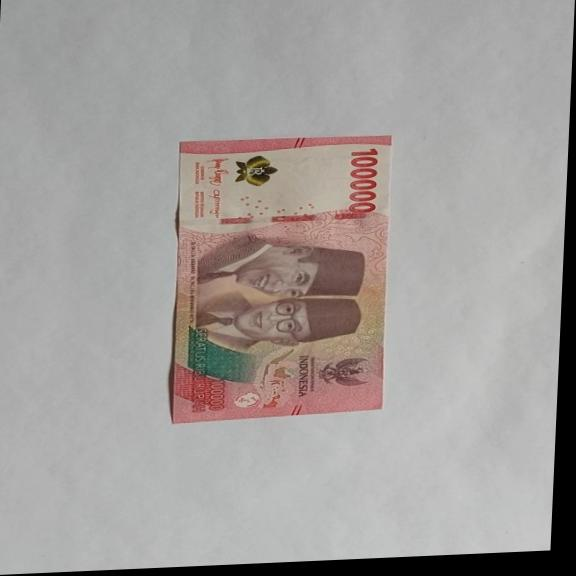Kertas: (165, 132, 395, 425), (346, 147, 382, 214)
